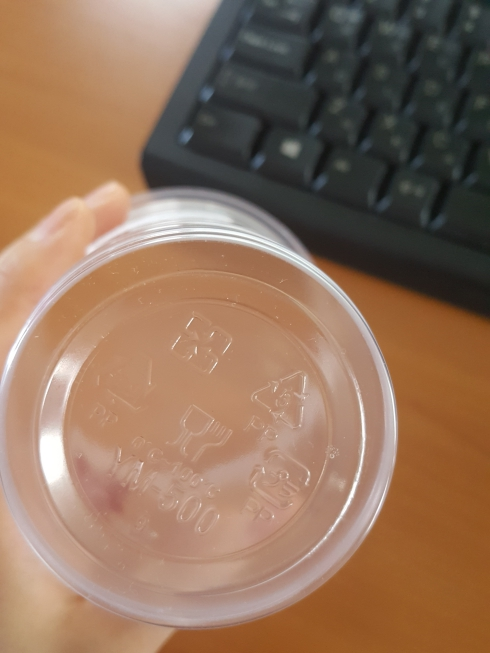recycle: (245, 351, 320, 445)
